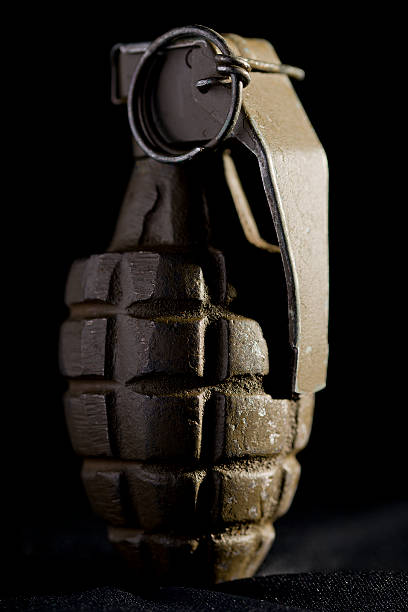e1: (41, 21, 338, 581)
